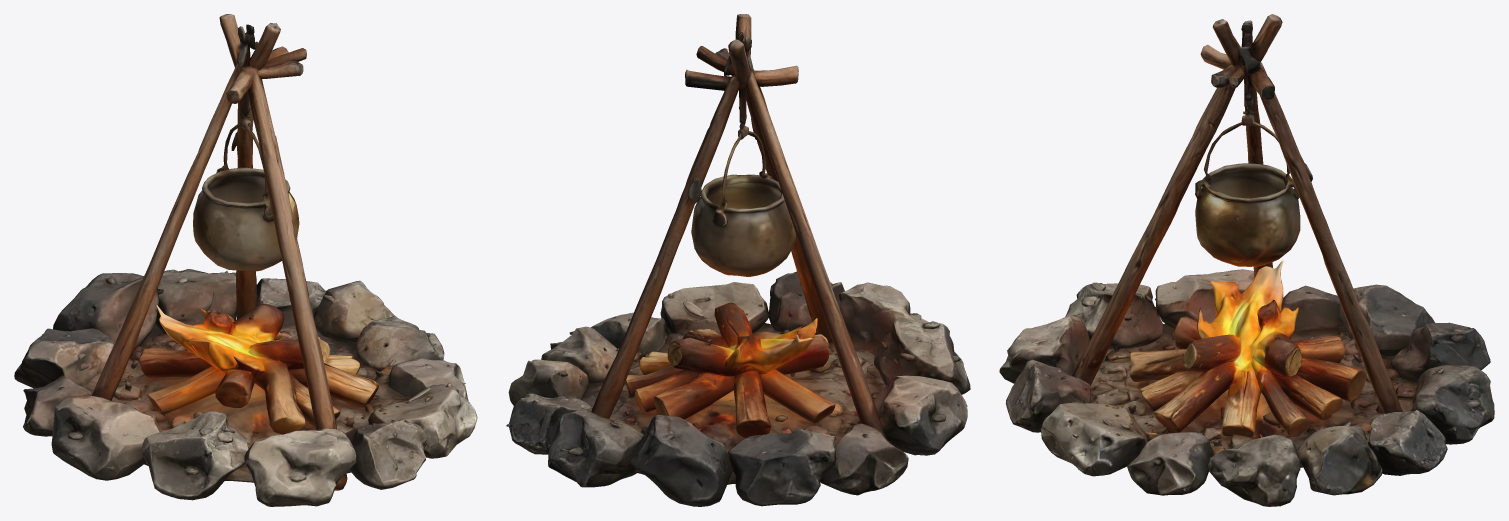
The model's file is campfire-high.glb.
3 renders of one model, left to right at view 1: azimuth 30°, elevation 25°; view 2: azimuth 150°, elevation 25°; view 3: azimuth 270°, elevation 25°, orthographic.
Size of the model in its own units: 0.916 by 0.9059 by 0.9995.
1 material, 1 textured.
